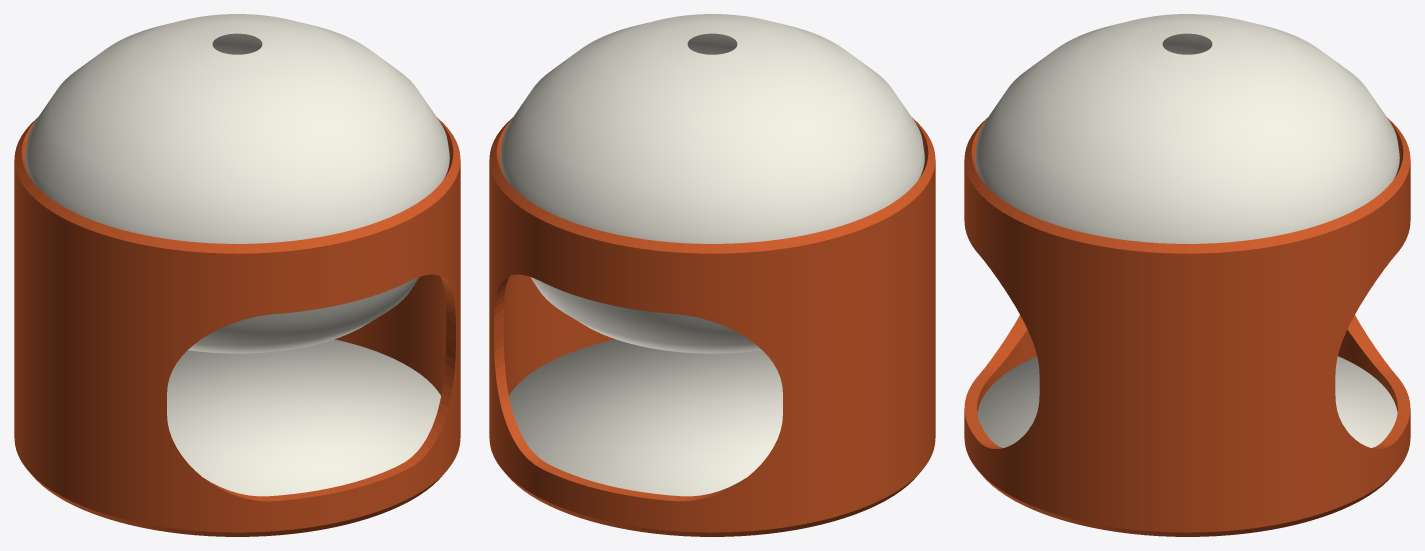
3 renders of one model, left to right at view 1: azimuth 30°, elevation 25°; view 2: azimuth 150°, elevation 25°; view 3: azimuth 270°, elevation 25°, orthographic.
Parts seen in each view (by area): view 1: kd27; view 2: kd27; view 3: kd27.
Boxes of the visible parts, <box> form: kd27: <box>14,14,460,536</box>; kd27: <box>489,14,935,536</box>; kd27: <box>964,14,1410,536</box>.
Bounding box in the file's own units: 0.25 × 0.2479 × 0.25.
